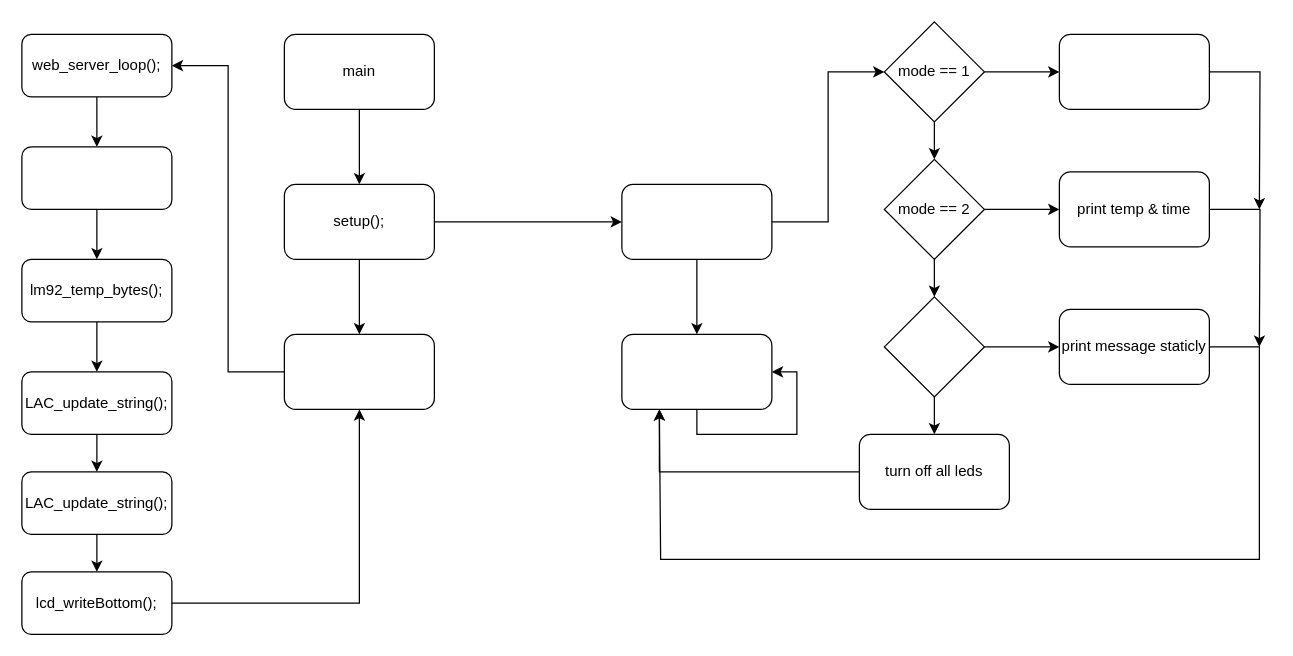
Some shapes in this 1293 by 656 pixel diagram are drawn without their labels. Each missing label, with the centre of its shape:
"LAC_init();" belongs at (x=696, y=221).
"LAC_update();" belongs at (x=696, y=371).
"loop();" belongs at (x=358, y=371).
"mode == 3" belongs at (x=933, y=346).
"rtc_get_time_bytes();" belongs at (x=96, y=177).
"Scroll text, print time" belongs at (x=1133, y=71).
